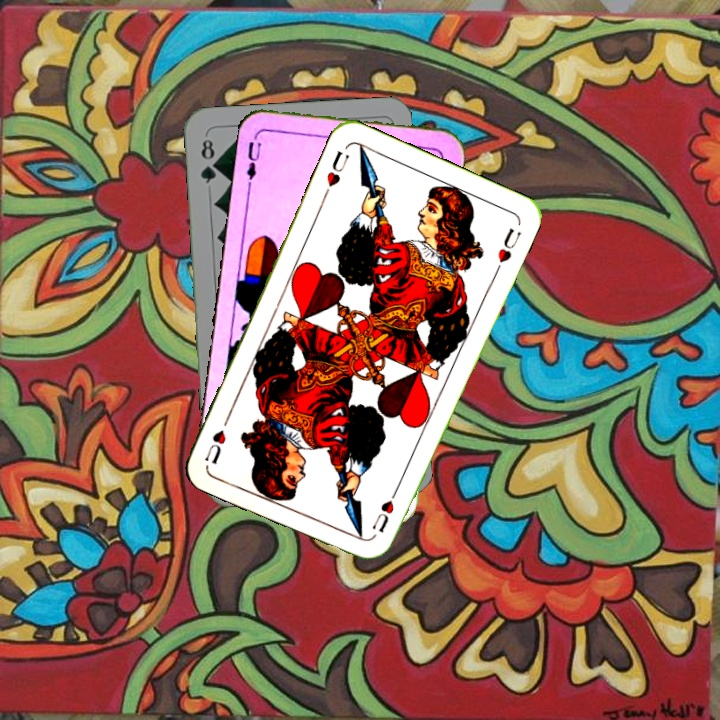EU: (242, 137, 264, 186)
G8: (196, 135, 220, 186)
HU: (319, 146, 352, 199), (368, 496, 397, 536)
